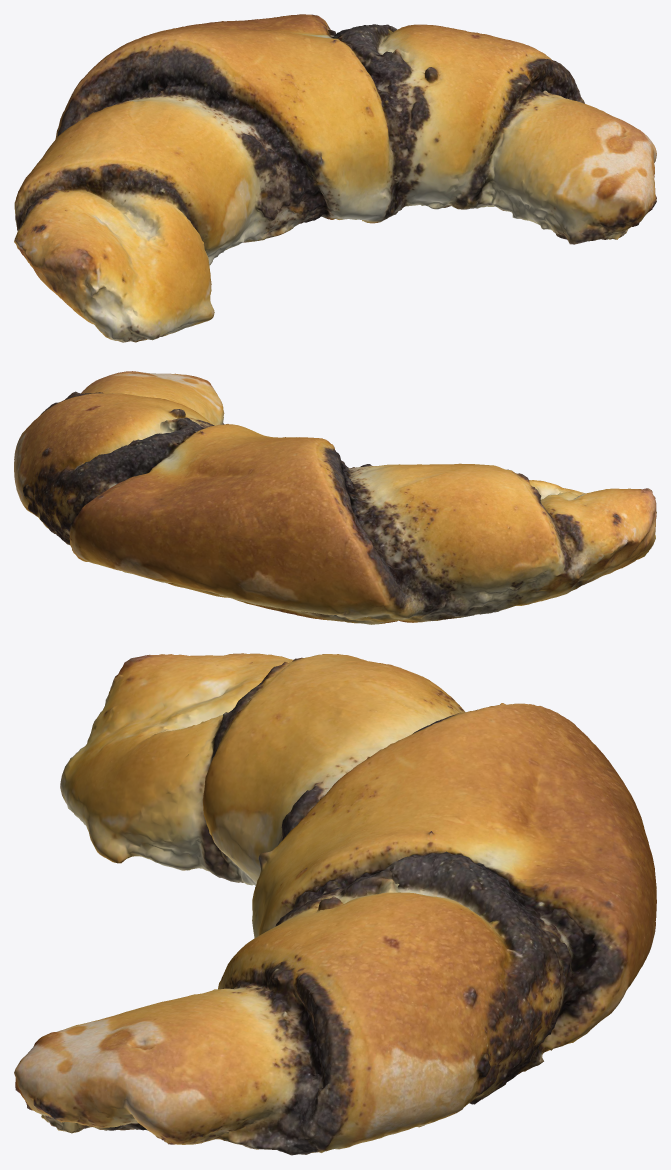
The model's file is BakeryProduct6_LOD1.gltf.
3 renders of one model, top to bottom at view 1: azimuth 30°, elevation 25°; view 2: azimuth 150°, elevation 25°; view 3: azimuth 270°, elevation 25°, orthographic. The views are drawn at different scales.
Visible parts, largest first — view 1: BakeryProduct6_LOD1; view 2: BakeryProduct6_LOD1; view 3: BakeryProduct6_LOD1.
Part boxes in pixels (left/top/right/bottom): BakeryProduct6_LOD1: left=14, top=14, right=656, bottom=342; BakeryProduct6_LOD1: left=14, top=371, right=656, bottom=624; BakeryProduct6_LOD1: left=14, top=653, right=656, bottom=1155.
Size of the model in its own units: 0.1756 by 0.0467 by 0.1159.
1 material, 1 textured.
